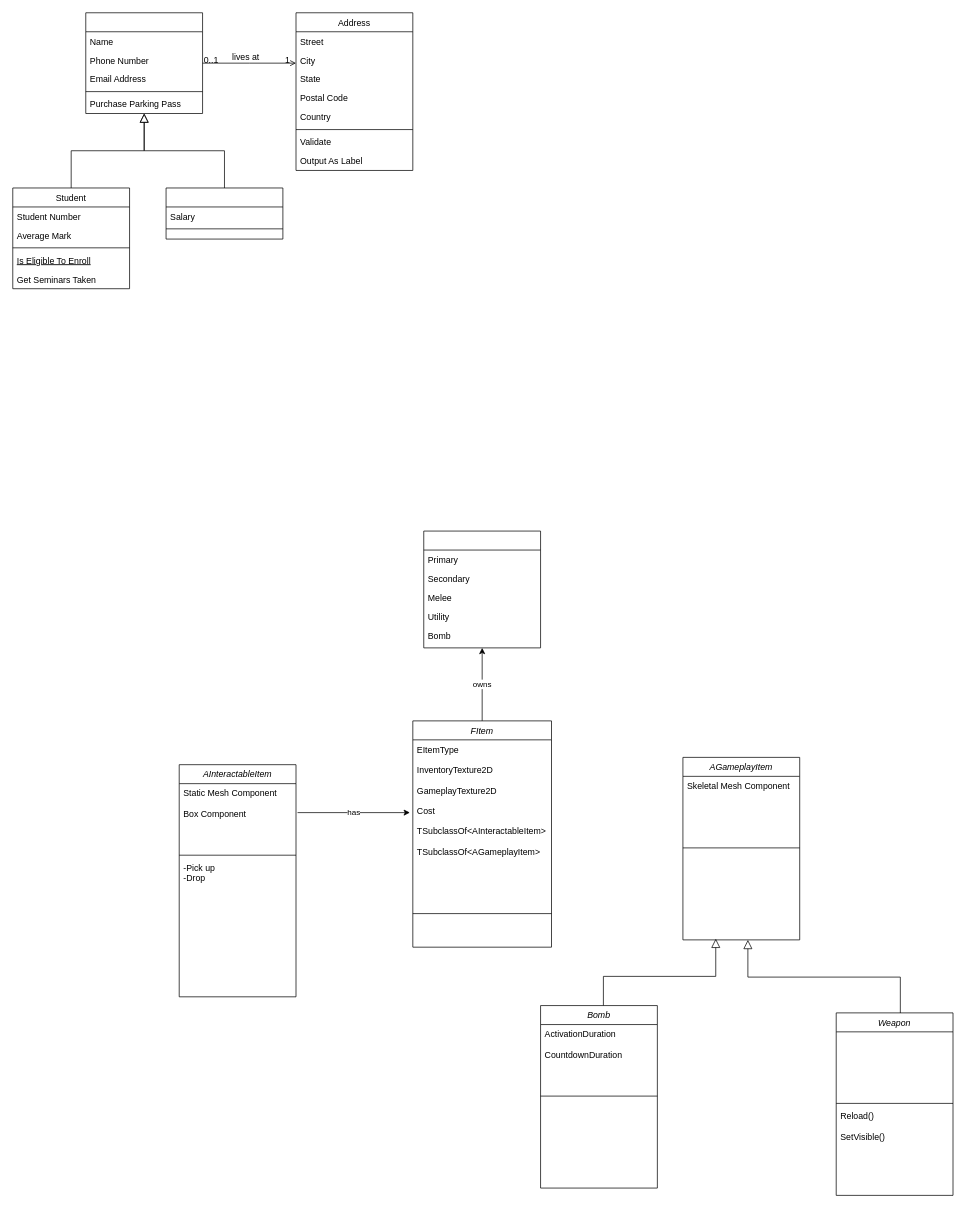
This 966x1210 diagram has some shape labels left out. Each missing label, with the box of its shape:
EItemType: (423, 530, 541, 648)
Person: (85, 12, 203, 114)
Professor: (165, 187, 283, 239)
